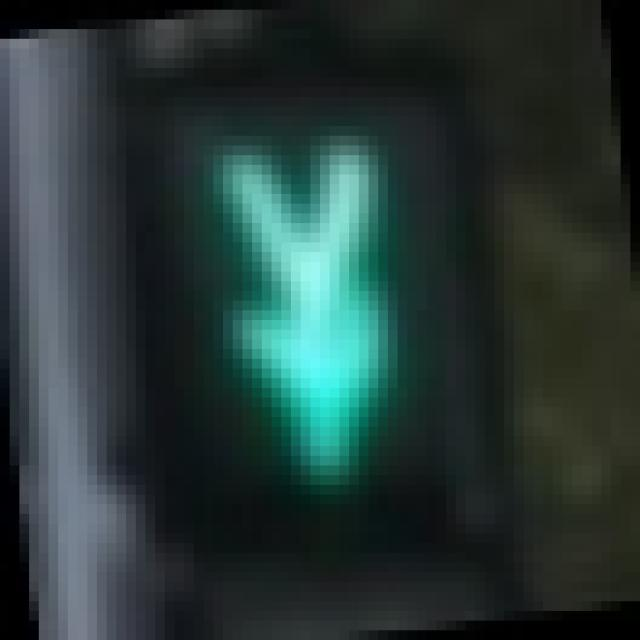geen-crossing: (107, 68, 494, 543)
